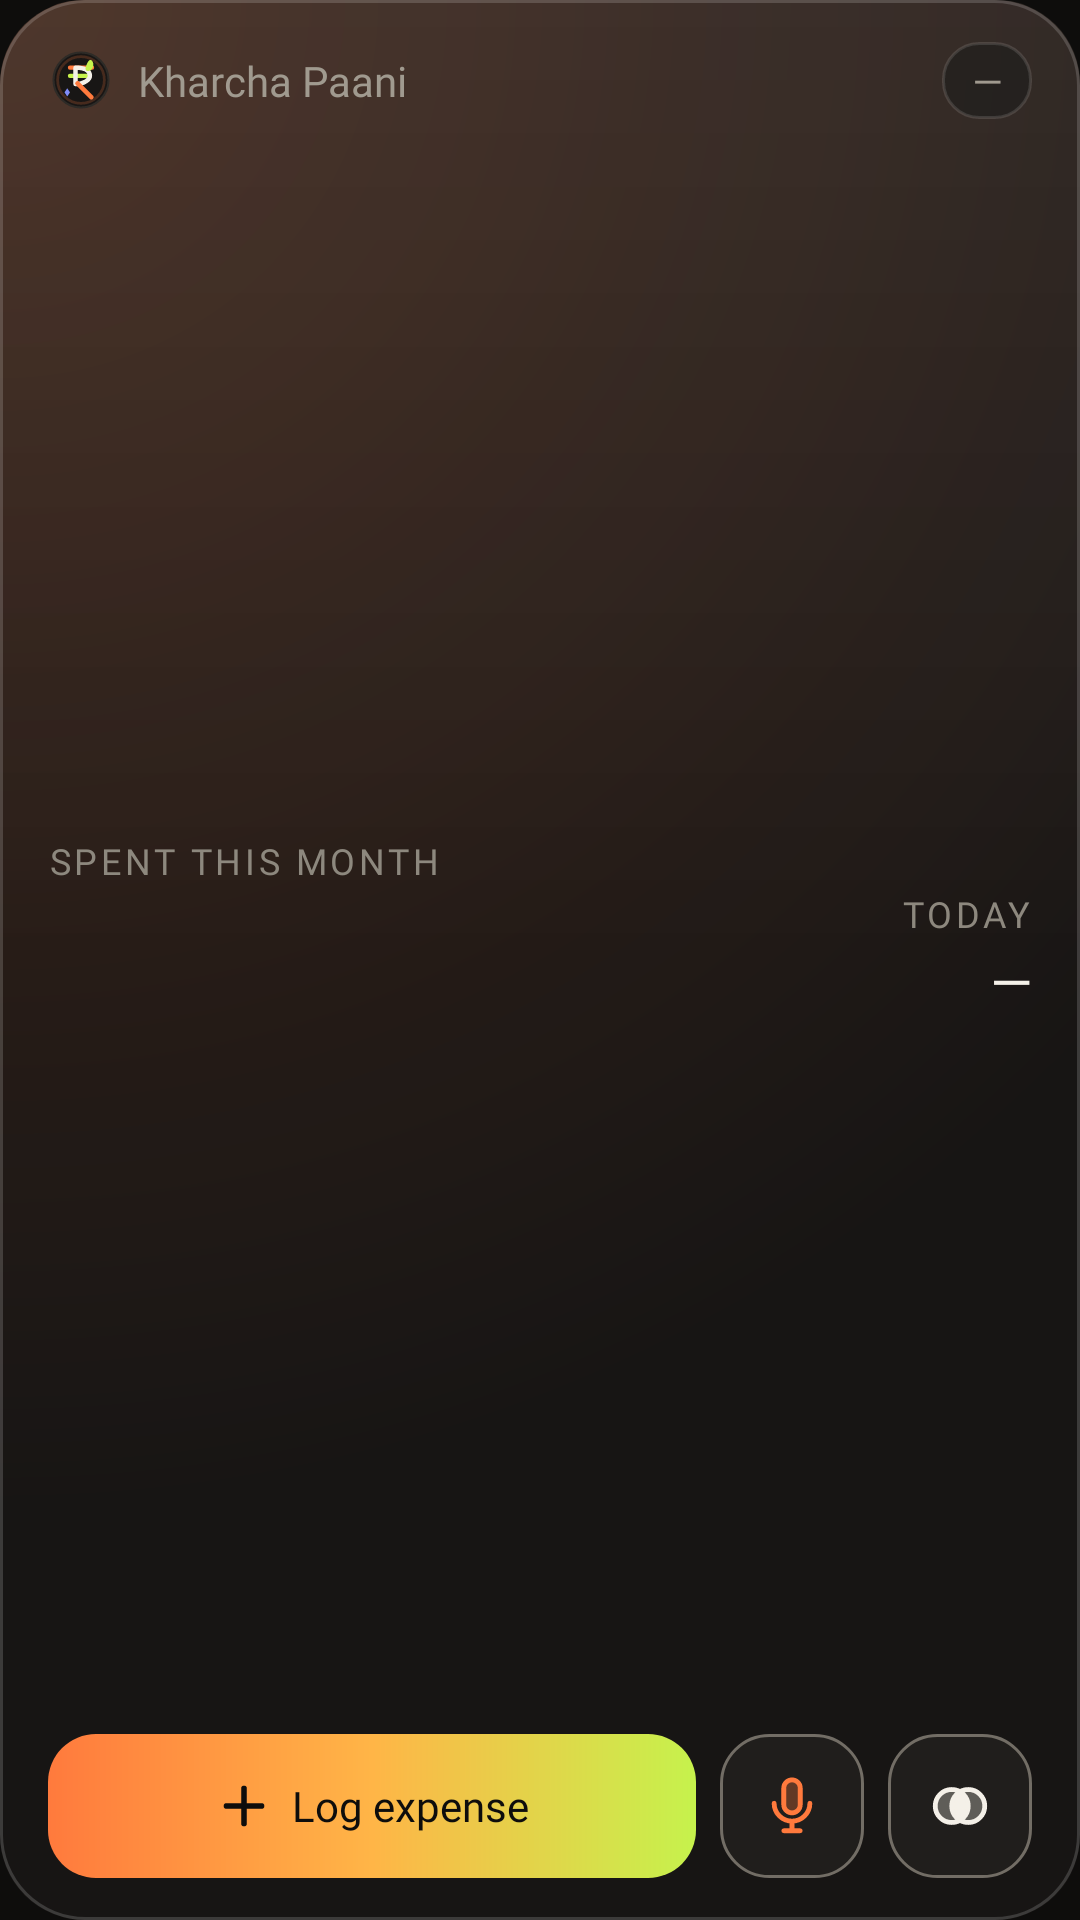

Locate icon controls on the screen. Image size 1080w x 1920h, boxes as (x1, y1, x2, y2).
widget add: (223, 1785, 265, 1827)
widget mic: (771, 1777, 813, 1834)
